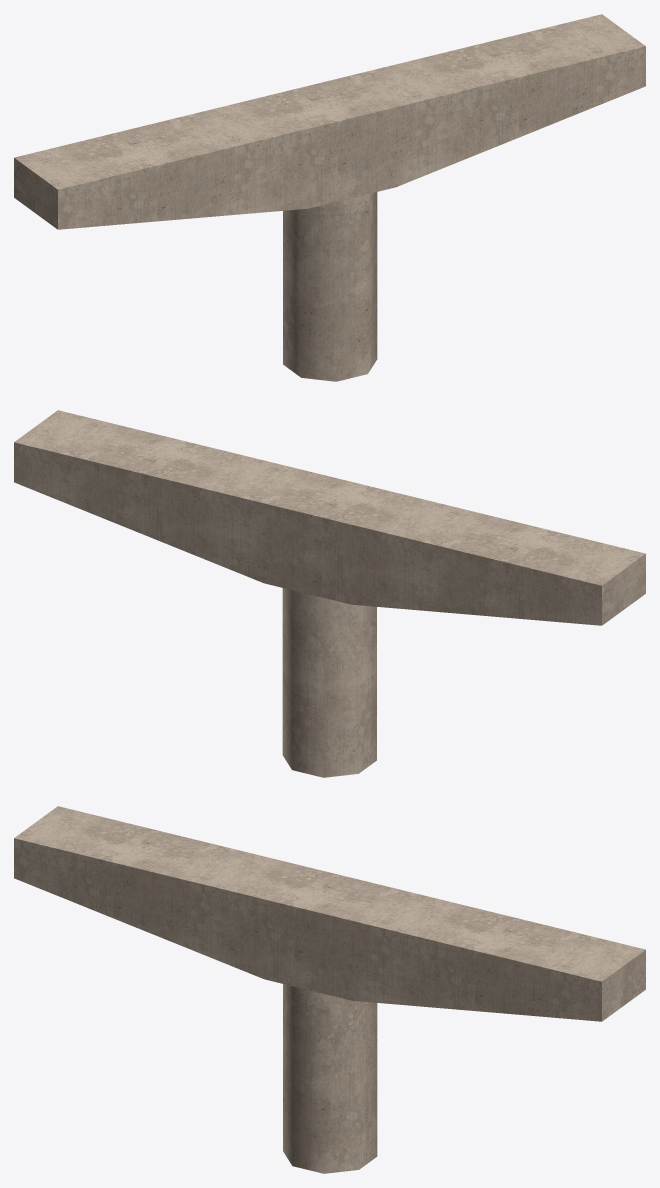
Rendered from street_overpass_pillar.fbx.
3 renders of one model, top to bottom at view 1: azimuth 30°, elevation 25°; view 2: azimuth 150°, elevation 25°; view 3: azimuth 330°, elevation 25°, orthographic.
Visible parts, largest first — view 1: street_overpass_pillar; view 2: street_overpass_pillar; view 3: street_overpass_pillar.
Part boxes in pixels (x1,y1,x2,y2): street_overpass_pillar: (14,14,645,381); street_overpass_pillar: (14,410,645,777); street_overpass_pillar: (14,806,645,1173).
Size of the model in its own units: 1539 by 650 by 199.
